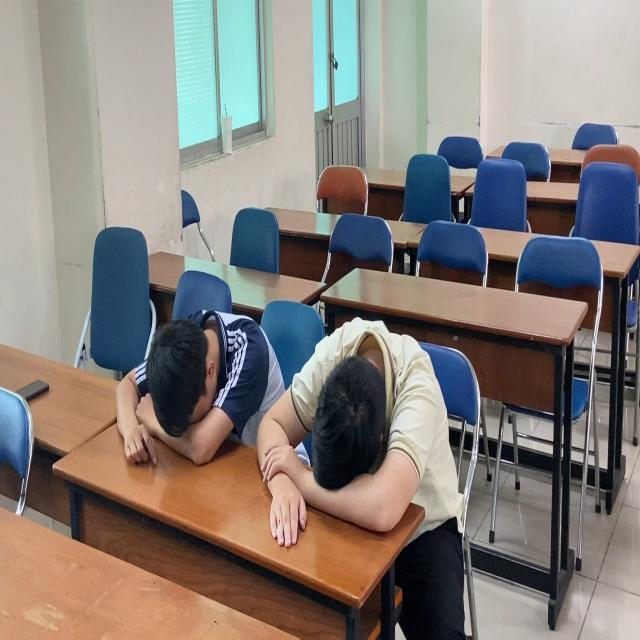sleep: (275, 299, 462, 528), (110, 284, 267, 455)
